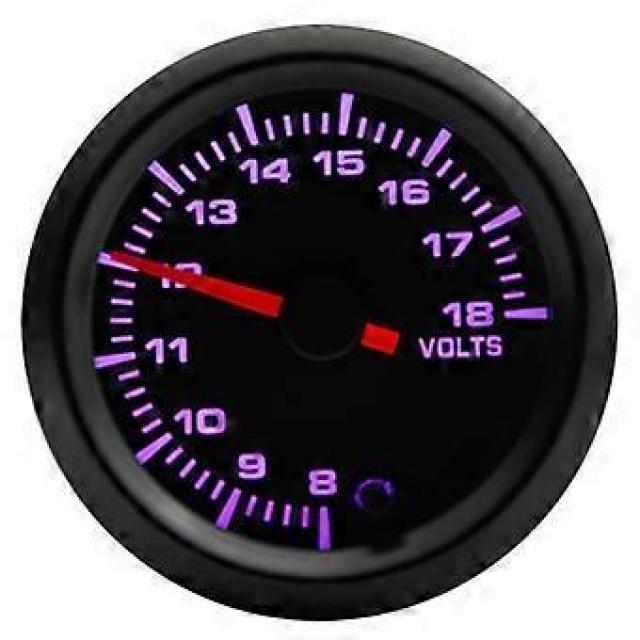Needle_Tip: (97, 236, 139, 282)
Needle_base: (283, 268, 365, 355)
max_value: (447, 286, 502, 338)
min_value: (294, 454, 346, 520)
